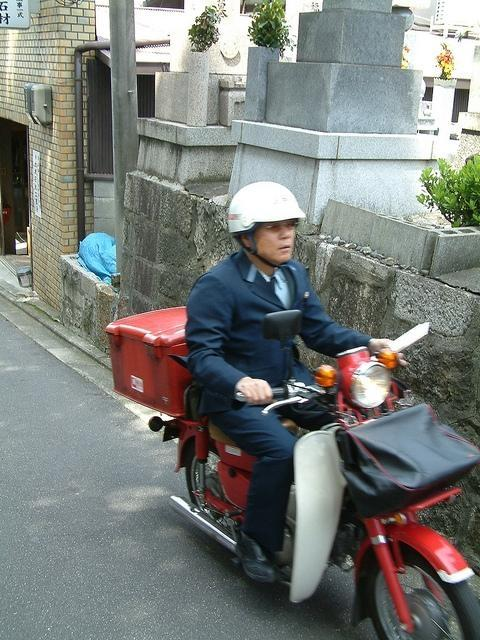motorcycle: (106, 307, 480, 640)
